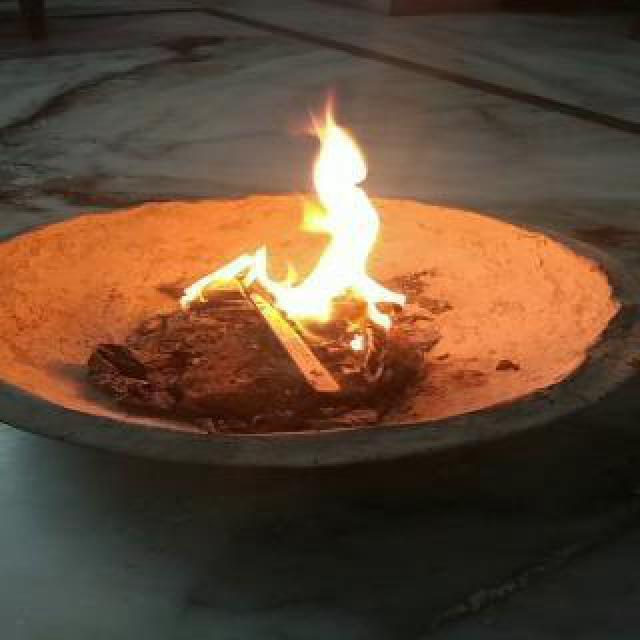Fire: (164, 102, 414, 348)
